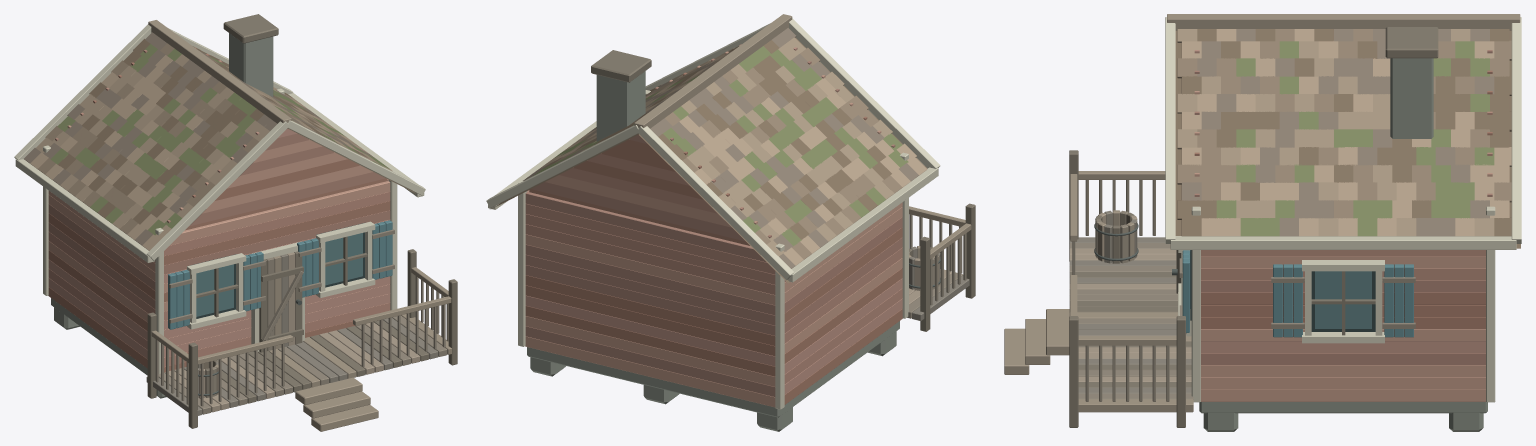
Rendered from House.fbx.
3 views of the same model, side by side, from view 1: azimuth 30°, elevation 25°; view 2: azimuth 150°, elevation 25°; view 3: azimuth 270°, elevation 25° (orthographic). The views are drawn at different scales.
Visible parts, largest first — view 1: SM_House; view 2: SM_House; view 3: SM_House.
Part boxes in pixels (x1=…): SM_House: x1=14, y1=14, x2=457, y2=431; SM_House: x1=486, y1=14, x2=975, y2=431; SM_House: x1=1004, y1=14, x2=1521, y2=431.
Bounding box in the file's own units: 5.79 × 5.5 × 7.18.
